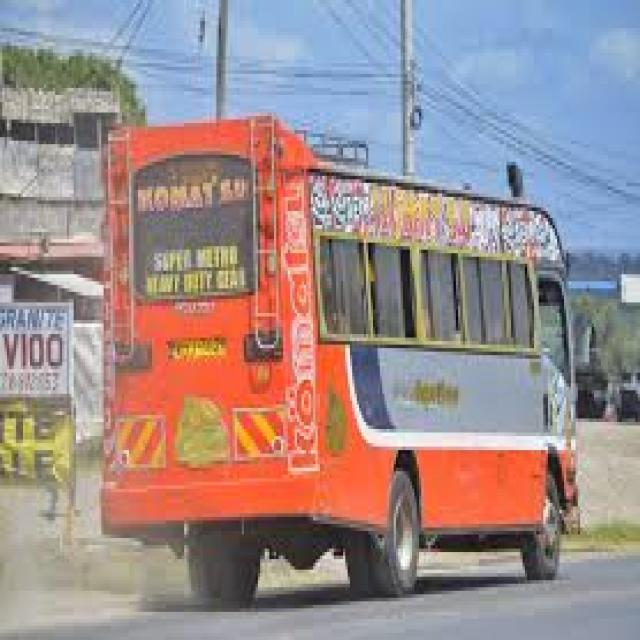bus: (78, 50, 609, 606)
